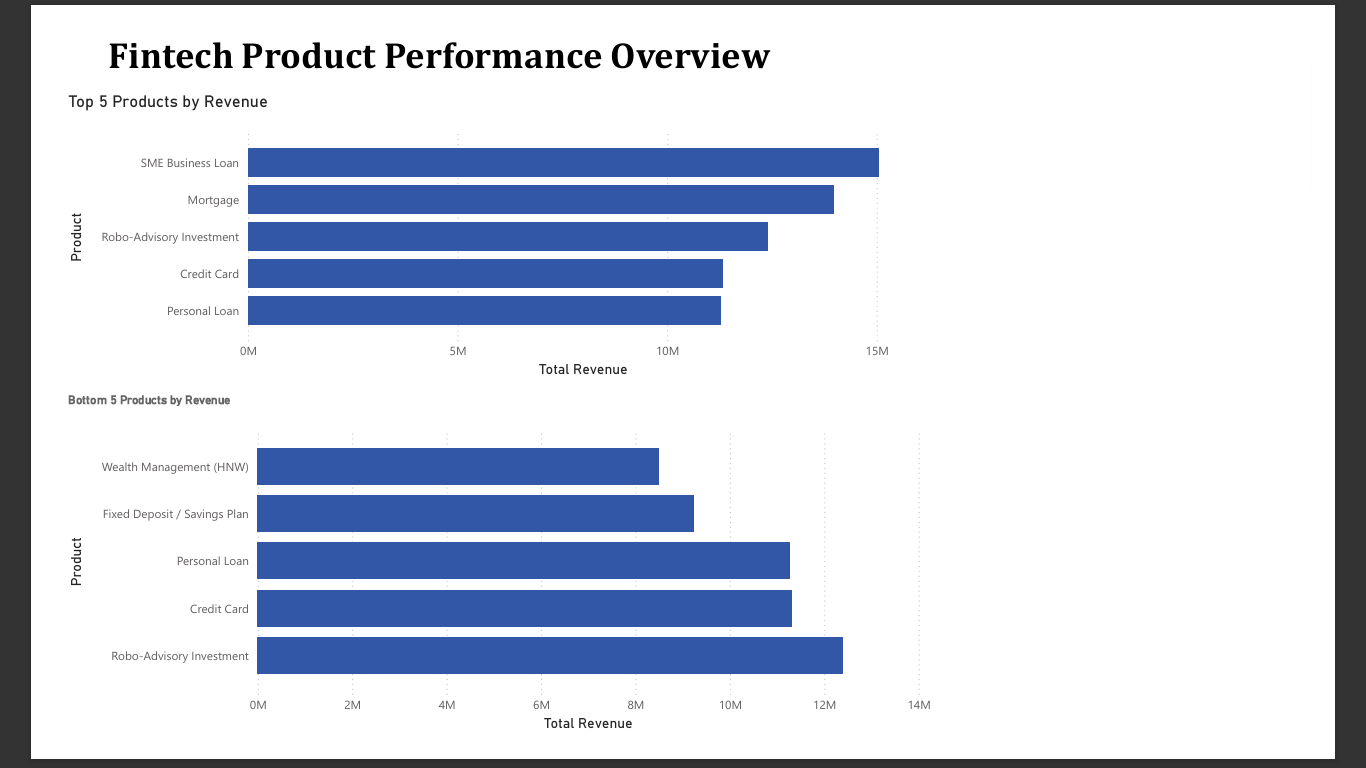

Layout of this report page (visuals, bound fields, positions):
{"tool":"powerbi","page":{"name":"Product Performance","canvas":[1280,720],"ordinal":1},"visuals":[{"type":"barChart","title":"Top 5 Products by Revenue","fields":{"Y":["fintech_sales_raw.Total Revenue"],"Category":["fintech_sales_raw.Product"]},"box":[9.3,64,888,296],"z":0},{"type":"barChart","title":"Bottom 5 Products by Revenue","fields":{"Y":["fintech_sales_raw.Total Revenue"],"Category":["fintech_sales_raw.Product"]},"box":[9.3,370.7,888,349.3],"z":1000},{"type":"textbox","box":[0,0,782.7,54.7],"z":1001}]}

Visuals, with their boxes in screenshot pixels (x1, y1, x2, y2), scaled from the page's 1280x720 canvas onto the 1366x768 screenshot:
"Top 5 Products by Revenue" barChart: box(10, 68, 958, 384)
"Bottom 5 Products by Revenue" barChart: box(10, 395, 958, 767)
textbox: box(0, 0, 835, 58)
